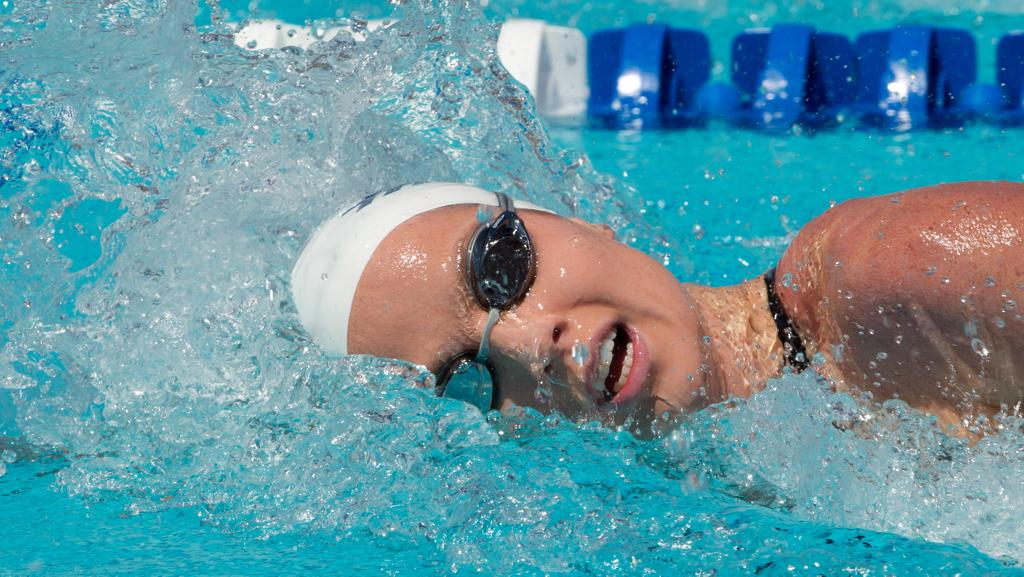face: (368, 214, 698, 448)
